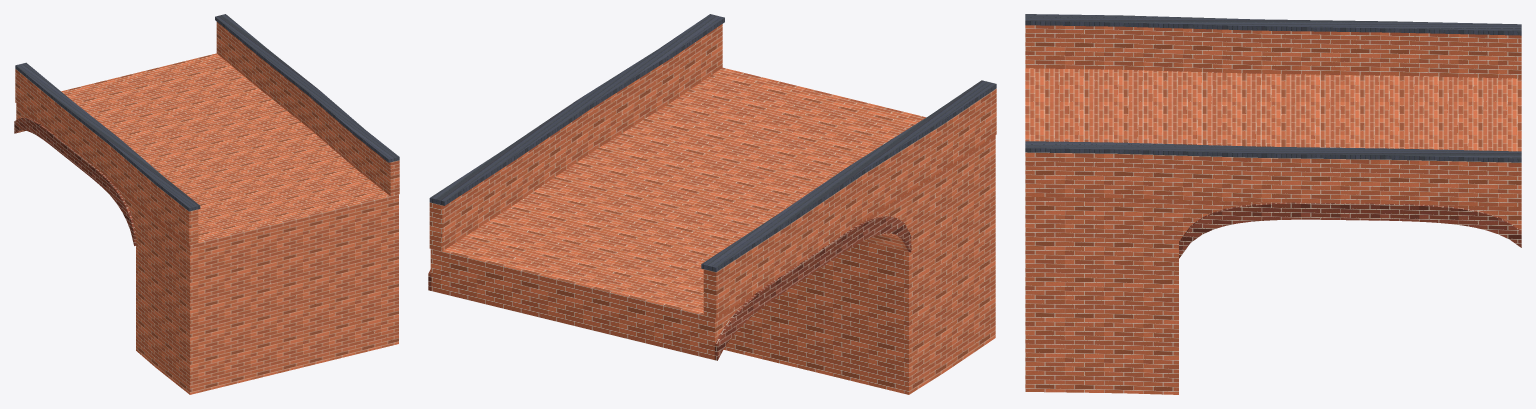
The model's file is bridge-3.glb.
3 views of the same model, side by side, from view 1: azimuth 30°, elevation 25°; view 2: azimuth 150°, elevation 25°; view 3: azimuth 270°, elevation 25° (orthographic). The views are drawn at different scales.
Parts seen in each view (by area): view 1: Masonry, Parapet.001, ArchRing; view 2: Masonry, Parapet.001, ArchRing; view 3: Masonry, Parapet.001, ArchRing.
Boxes of the visible parts, <box> form: Masonry: <box>15,22,399,394</box>; Parapet.001: <box>15,14,399,211</box>; ArchRing: <box>14,117,135,246</box>; Masonry: <box>429,24,996,394</box>; Parapet.001: <box>429,14,996,271</box>; ArchRing: <box>428,216,911,360</box>; Masonry: <box>1025,25,1521,394</box>; Parapet.001: <box>1025,14,1521,162</box>; ArchRing: <box>1179,202,1521,258</box>.
Bounding box in the file's own units: 8.72 × 6.84 × 12.6.
3 materials, 3 textured.
